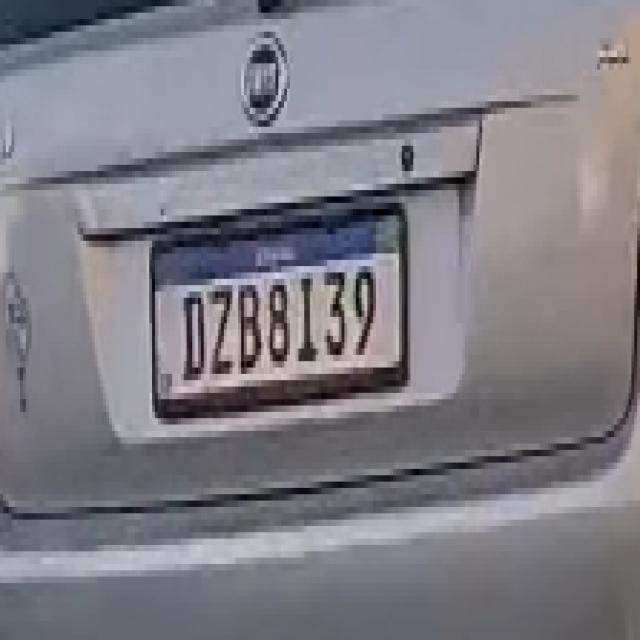Placa_mercosul_carro: (150, 208, 409, 417)
